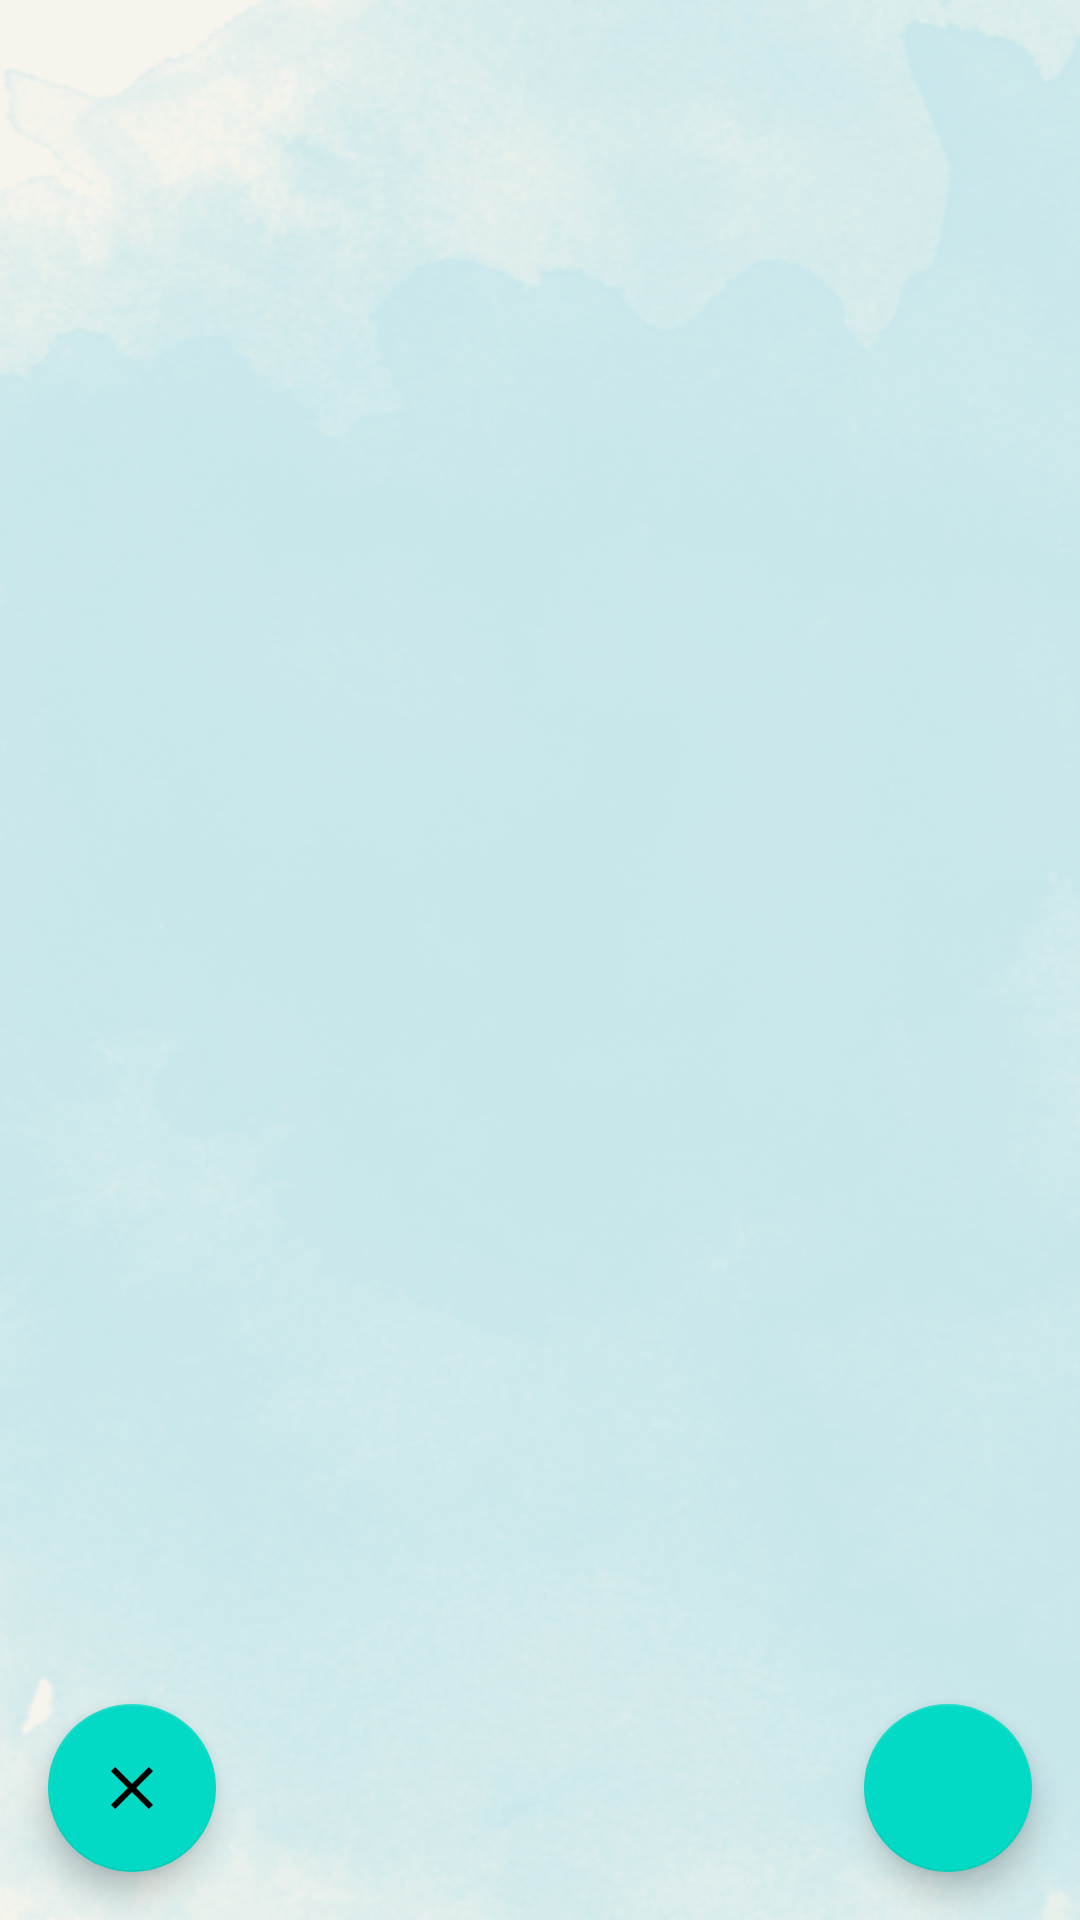

Icons on this 1080px×1920px Android screen, each with the point to tap as [x,y]:
Salir: [132,1788]
